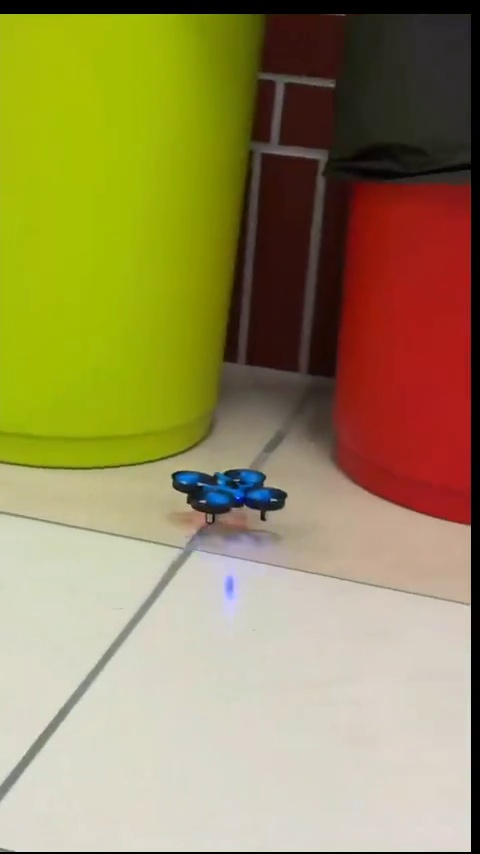drone: (171, 468, 281, 523)
